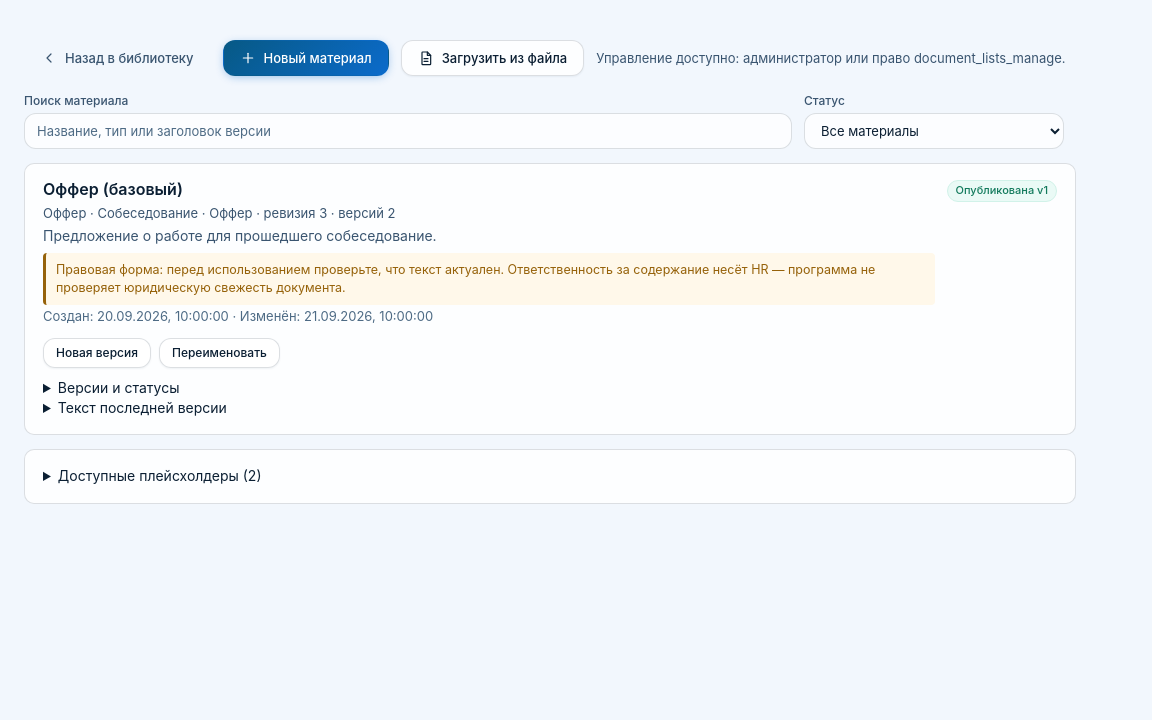
Test: Шаблоны документов › publishes a draft version with the optimistic revision
Expected: the heading "Оффер (базовый)" is shown, [43,179,183,199]
Click the heading "Версии и статусы" at (119, 387), box [58,379,179,396]
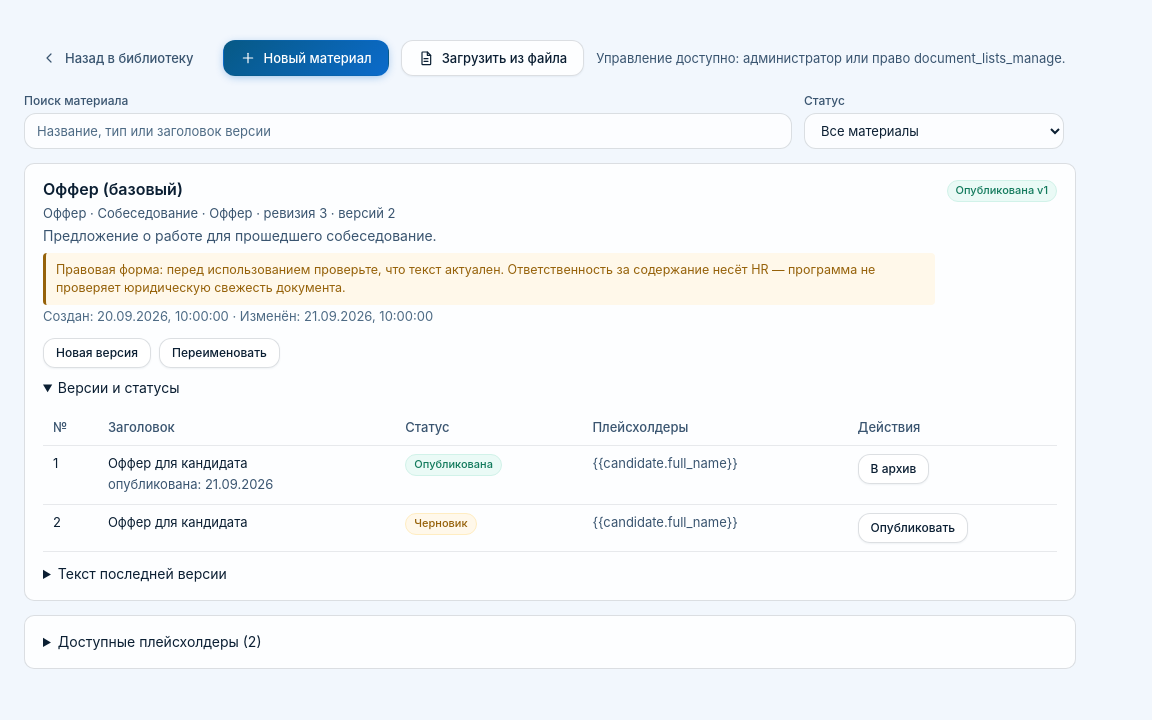
Click the button "Опубликовать" at (913, 528), box [858,513,968,543]
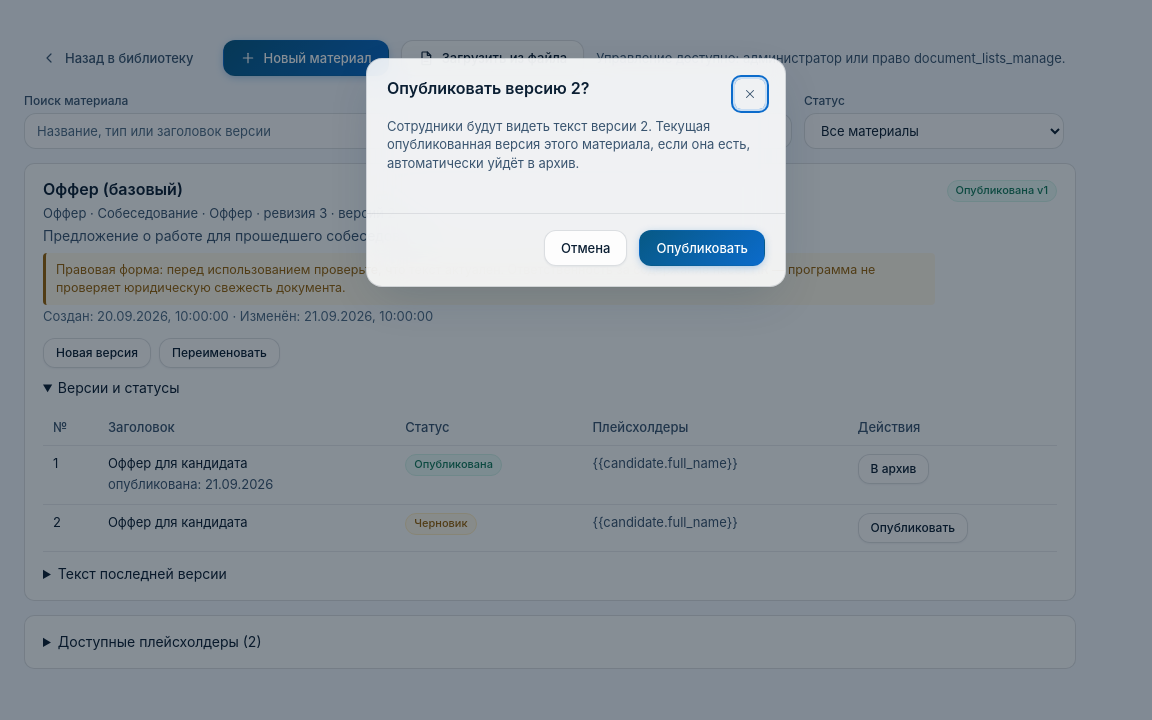
Result: the dialog shows "Опубликовать версию 2?" at [387,78,590,98]
Click the button "Опубликовать" at (702, 248), box [639,230,765,266]
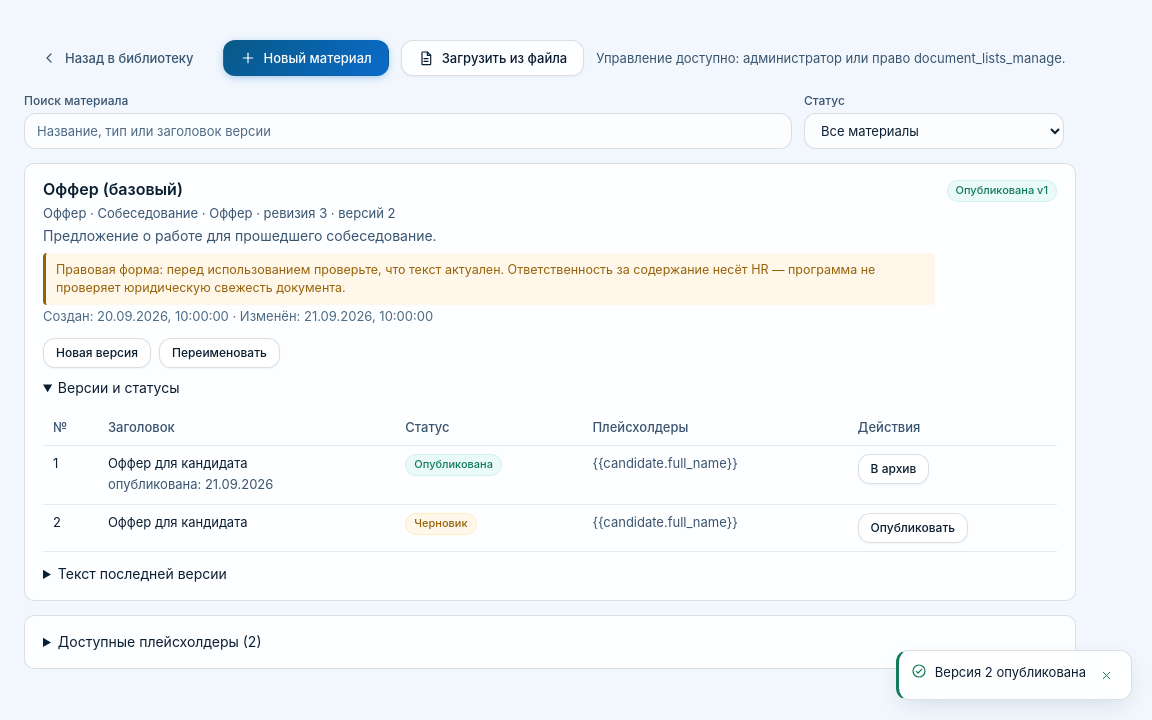
Result: the text "Версия 2 опубликована" is shown at [935,663,1086,682]
